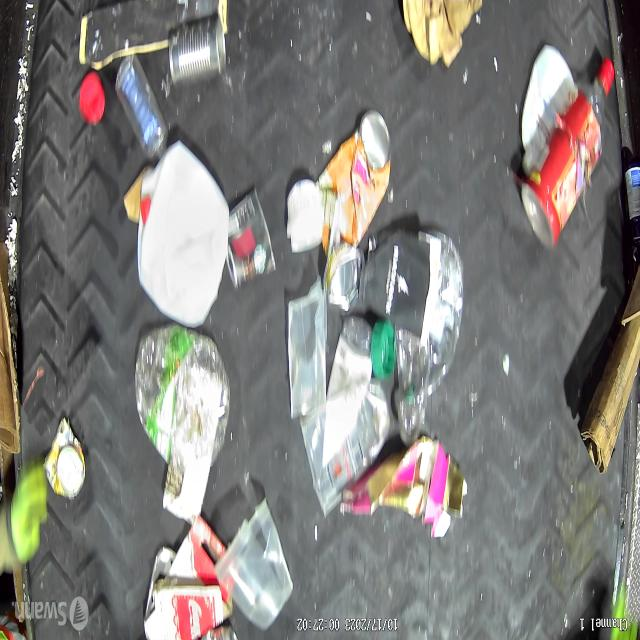can: (328, 109, 391, 246), (167, 20, 228, 91), (43, 421, 85, 499), (323, 243, 364, 316)
milk_jug: (136, 143, 228, 327)
plastic_bottle: (134, 324, 230, 465)
